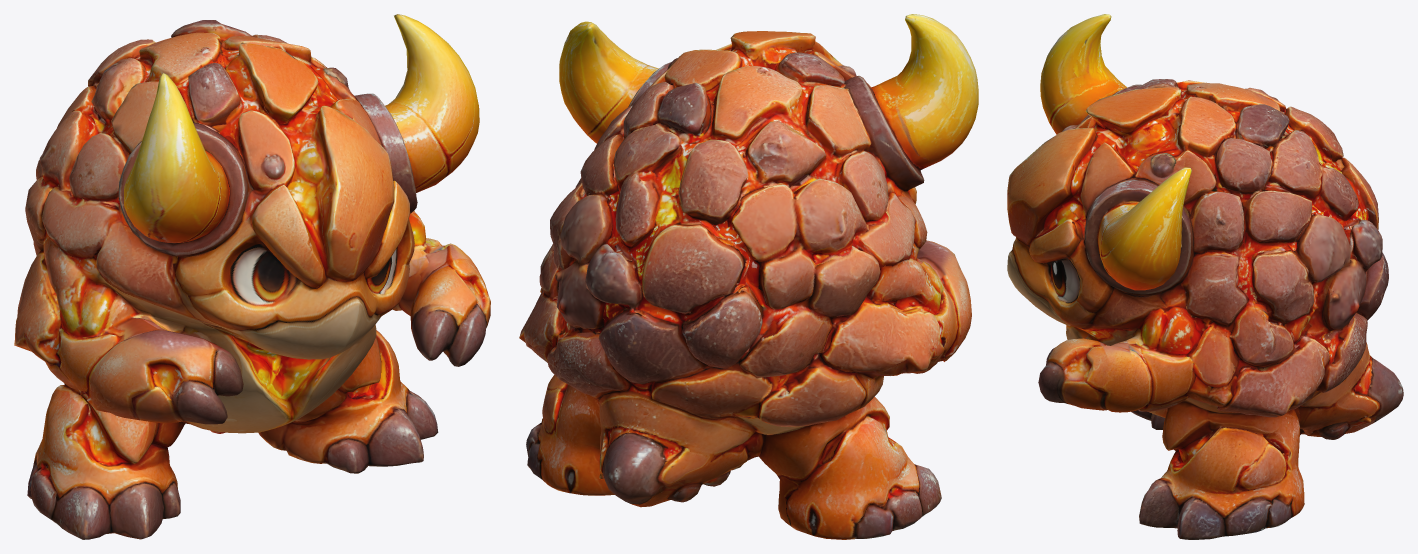
3 renders of one model, left to right at view 1: azimuth 30°, elevation 25°; view 2: azimuth 150°, elevation 25°; view 3: azimuth 270°, elevation 25°, orthographic. The views are drawn at different scales.
Visible parts, largest first — view 1: texture_mapping; view 2: texture_mapping; view 3: texture_mapping.
Part boxes in pixels (left/top/right/bottom): texture_mapping: left=14, top=14, right=490, bottom=539; texture_mapping: left=519, top=14, right=978, bottom=539; texture_mapping: left=1007, top=14, right=1403, bottom=539.
Bounding box in the file's own units: 92.45 × 100 × 90.31.
Materials: 1 (1 with a texture image).
